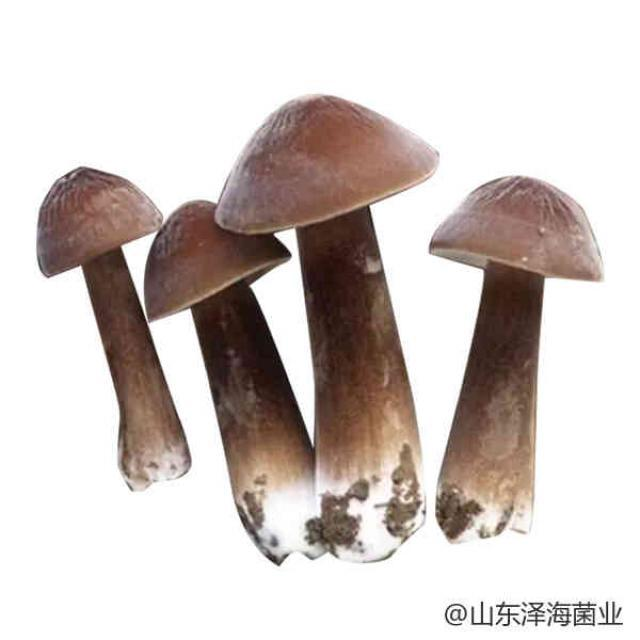Collybia albuminosa: (215, 95, 439, 564), (427, 175, 605, 544), (145, 196, 320, 564), (35, 166, 193, 490)
